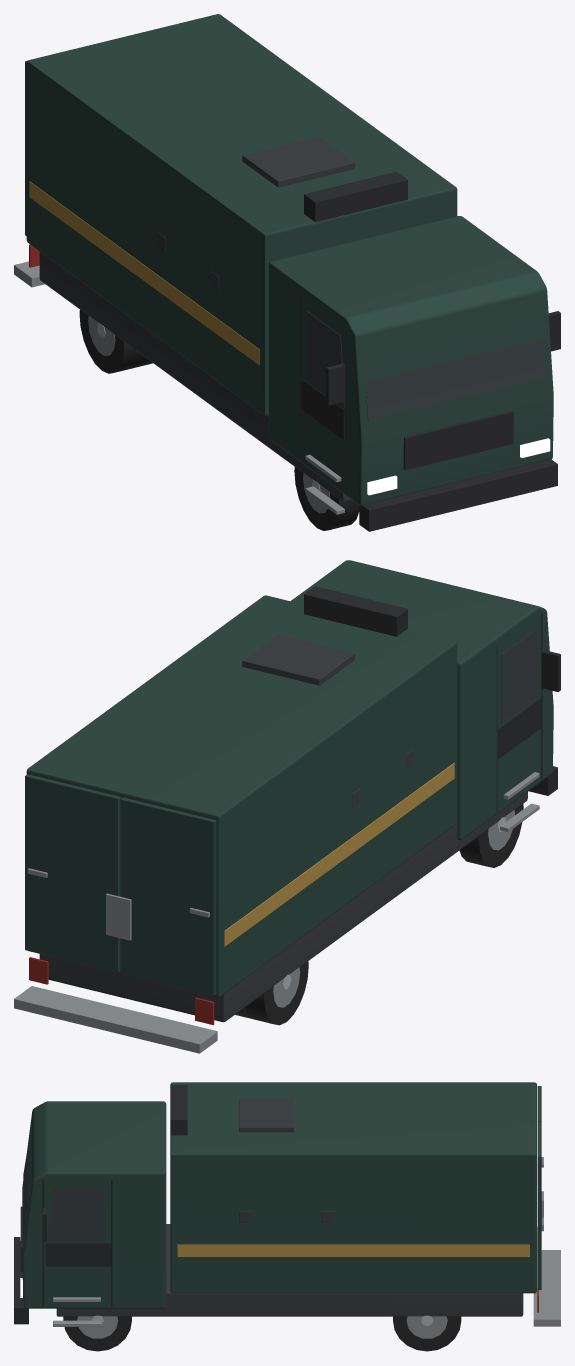
File: veh_armored_truck_cash.glb
The picture shows the model from 3 angles, top to bottom: view 1: azimuth 30°, elevation 25°; view 2: azimuth 150°, elevation 25°; view 3: azimuth 270°, elevation 25°; orthographic projection. The views are drawn at different scales.
Visible parts, largest first — view 1: Body, Wheels, CabDoorLMesh; view 2: Body, RearDoorLMesh, RearDoorRMesh, Wheels, CabDoorLMesh, LockPlate; view 3: Body, Wheels, CabDoorRMesh, RearDoorRMesh.
Part boxes in pixels (x1,y1,x2,y2): Body: (14,14,560,531); Wheels: (79,310,359,530); CabDoorLMesh: (301,379,344,439); Body: (14,560,560,1053); RearDoorLMesh: (120,797,216,995); RearDoorRMesh: (25,774,120,972); Wheels: (235,804,523,1025); CabDoorLMesh: (498,697,541,759); LockPlate: (106,893,131,940); Body: (14,1082,560,1326); Wheels: (63,1315,461,1351); CabDoorRMesh: (46,1243,111,1266); RearDoorRMesh: (537,1121,543,1289).
Bounding box in the file's own units: 3 × 3.45 × 7.97.
